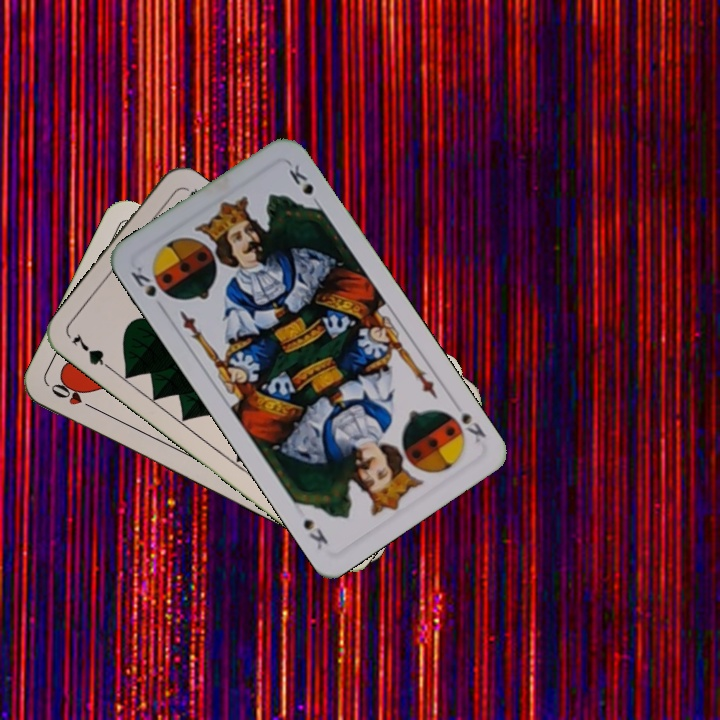G7: (67, 329, 118, 375)
HO: (46, 378, 101, 414)
SK: (441, 396, 489, 445), (126, 262, 172, 301)
